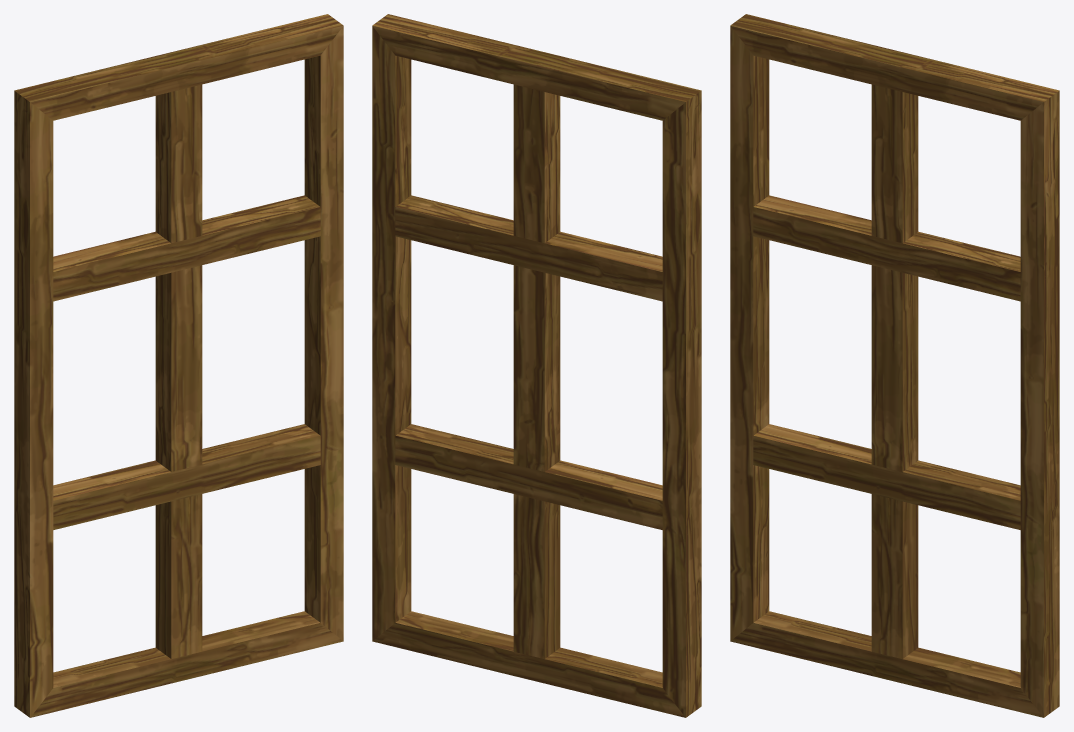
The model's file is Frame is straight 3.fbx.
3 renders of one model, left to right at view 1: azimuth 30°, elevation 25°; view 2: azimuth 150°, elevation 25°; view 3: azimuth 330°, elevation 25°, orthographic.
Visible parts, largest first — view 1: Frame is straight 3; view 2: Frame is straight 3; view 3: Frame is straight 3.
Boxes of the visible parts, x1=… form: Frame is straight 3: x1=14, y1=14, x2=343, y2=717; Frame is straight 3: x1=372, y1=14, x2=701, y2=717; Frame is straight 3: x1=730, y1=14, x2=1059, y2=717.
Bounding box in the file's own units: 51.89 × 97.35 × 4.55.
